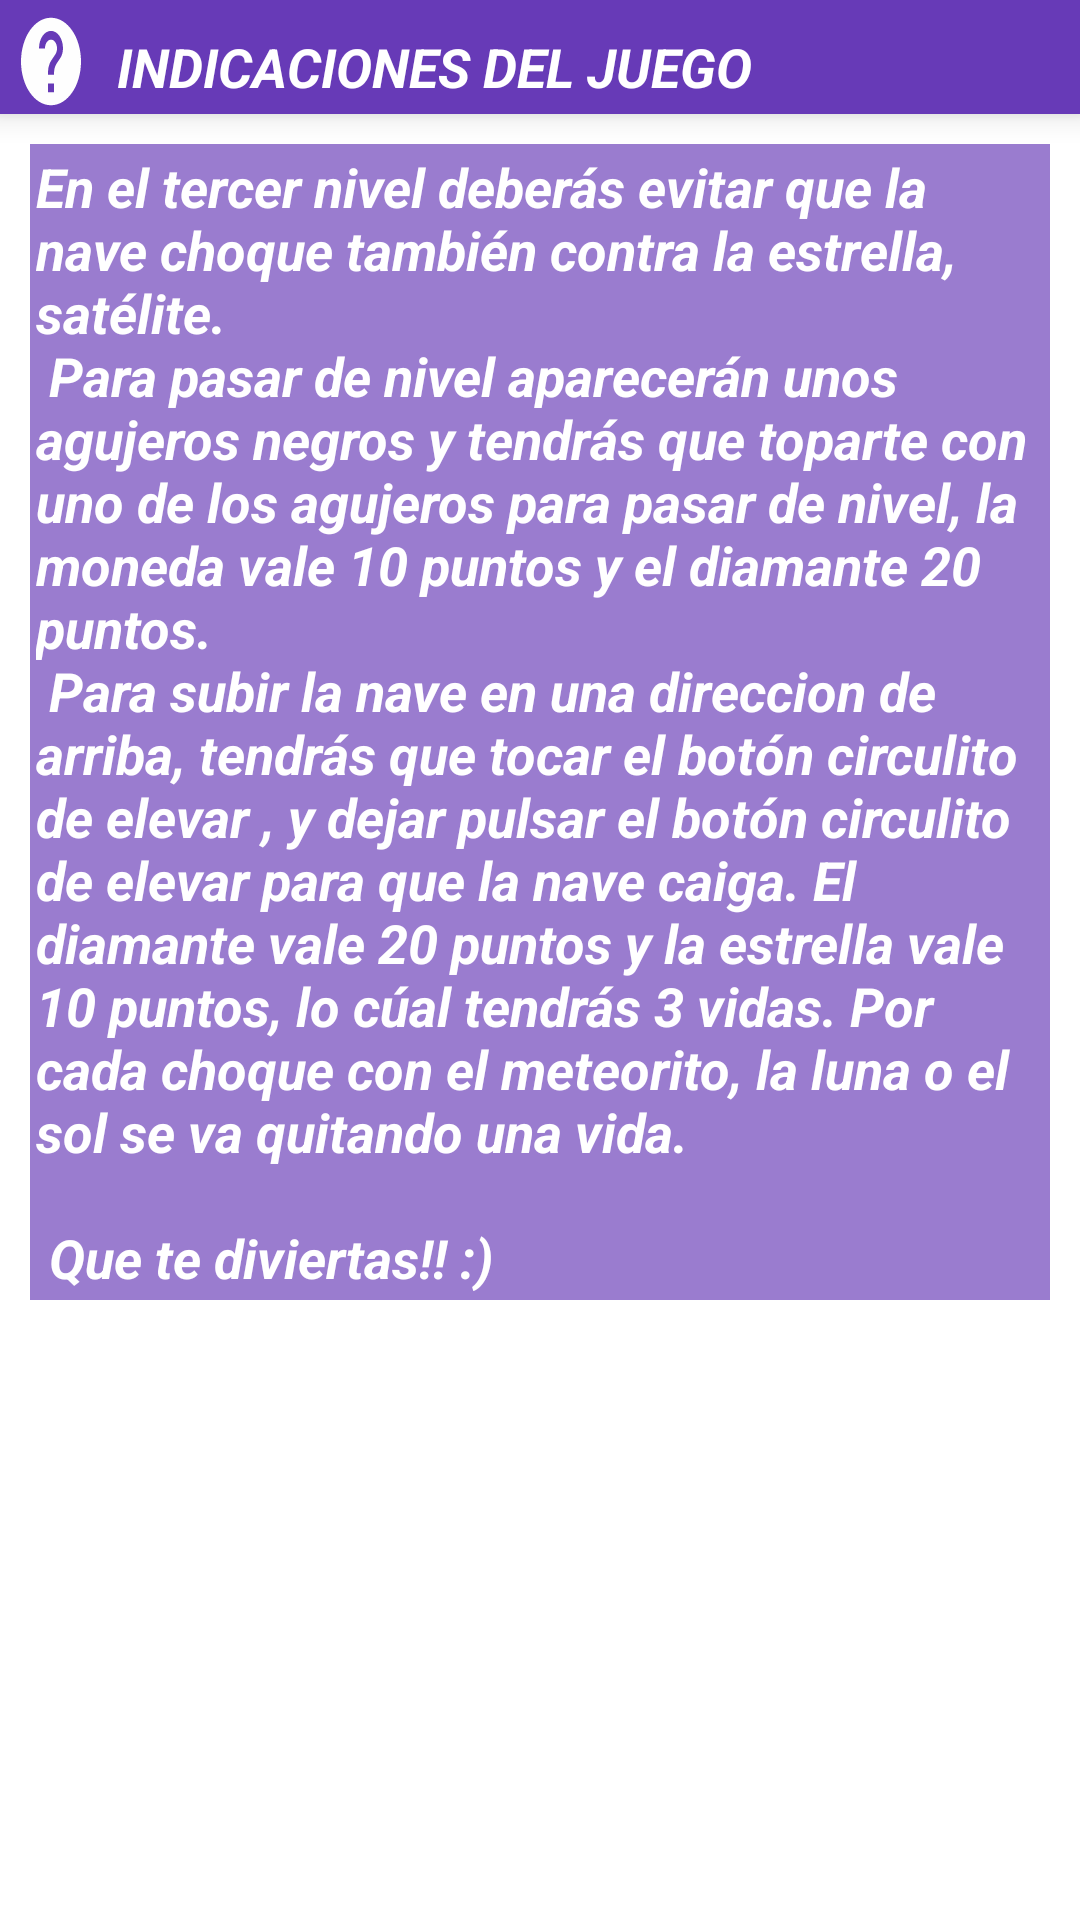

Where to tap for icons on this 1080×1920 app screen, as (x=x, y=y):
ayuda: (x=51, y=61)
